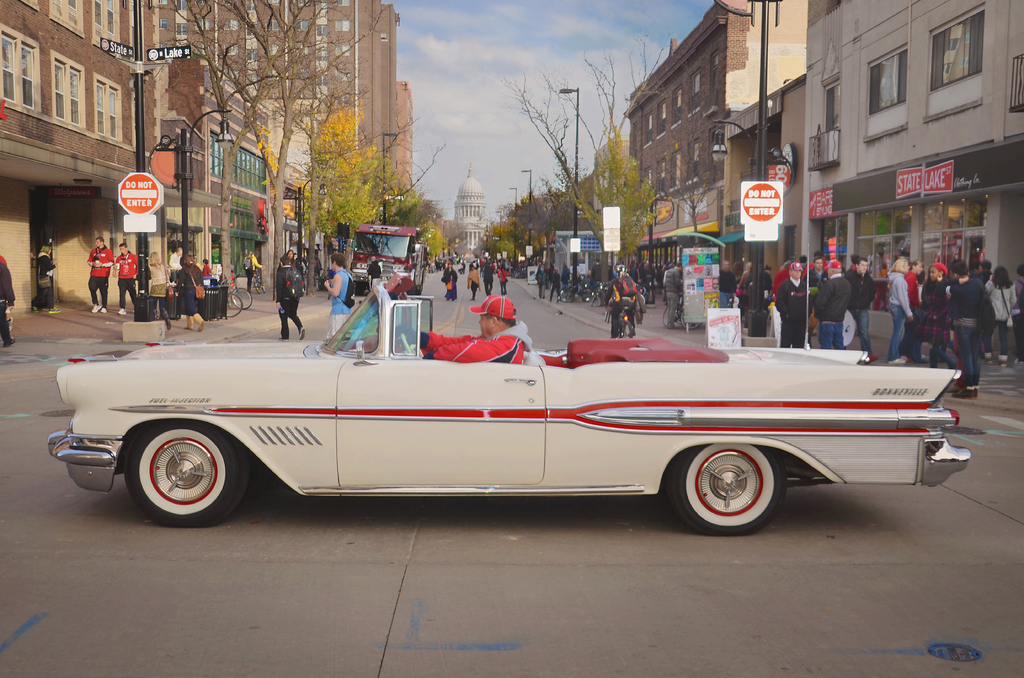Car: (42, 278, 975, 533)
